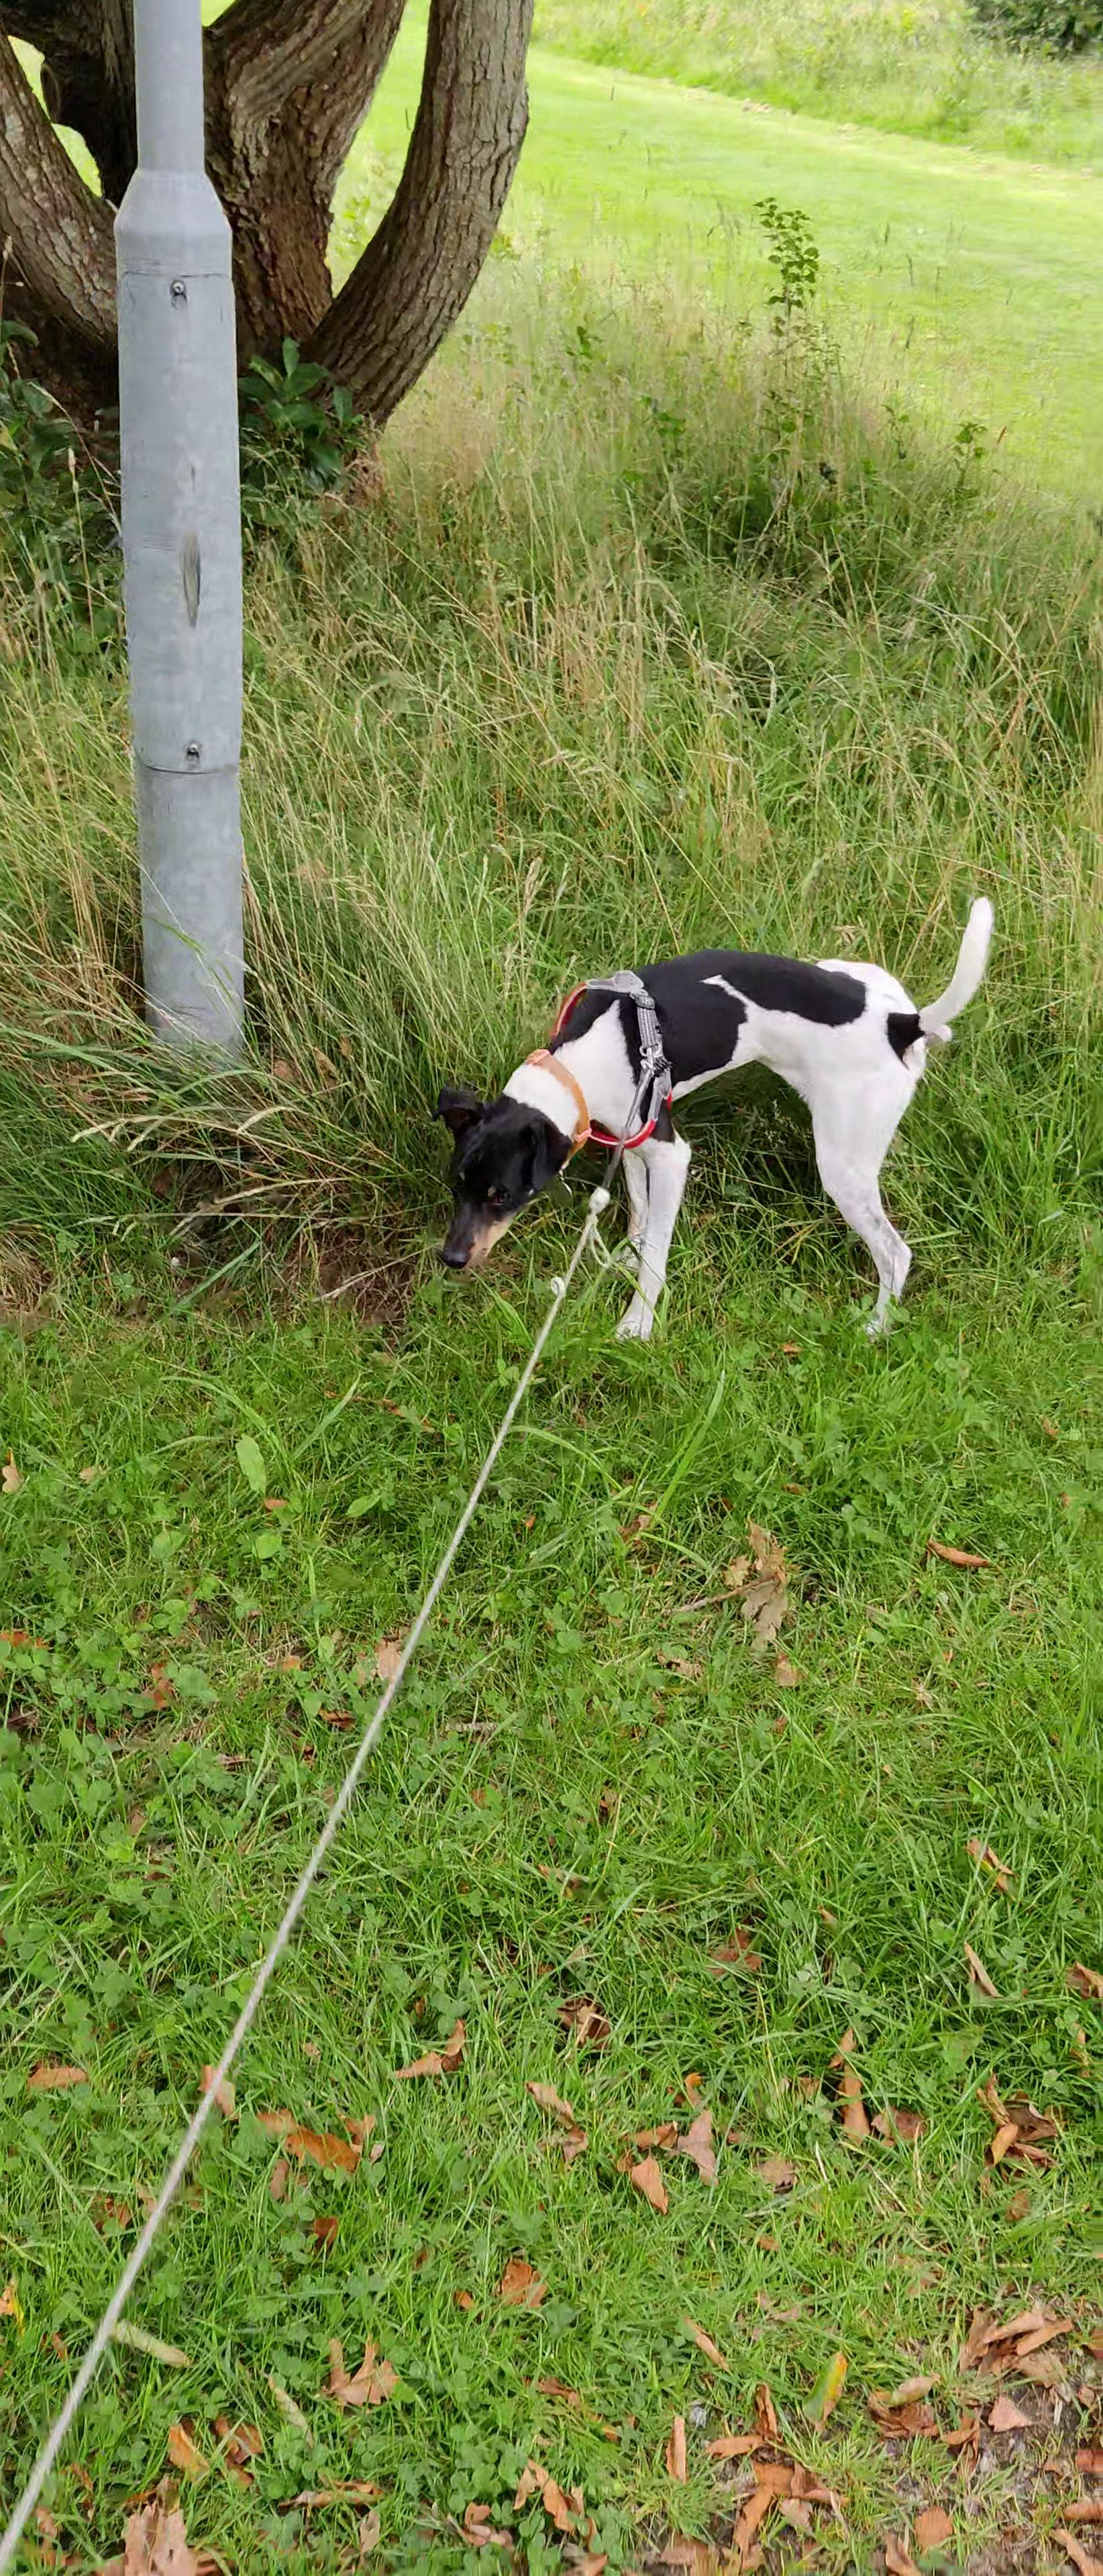Dog: (413, 874, 1008, 1350)
